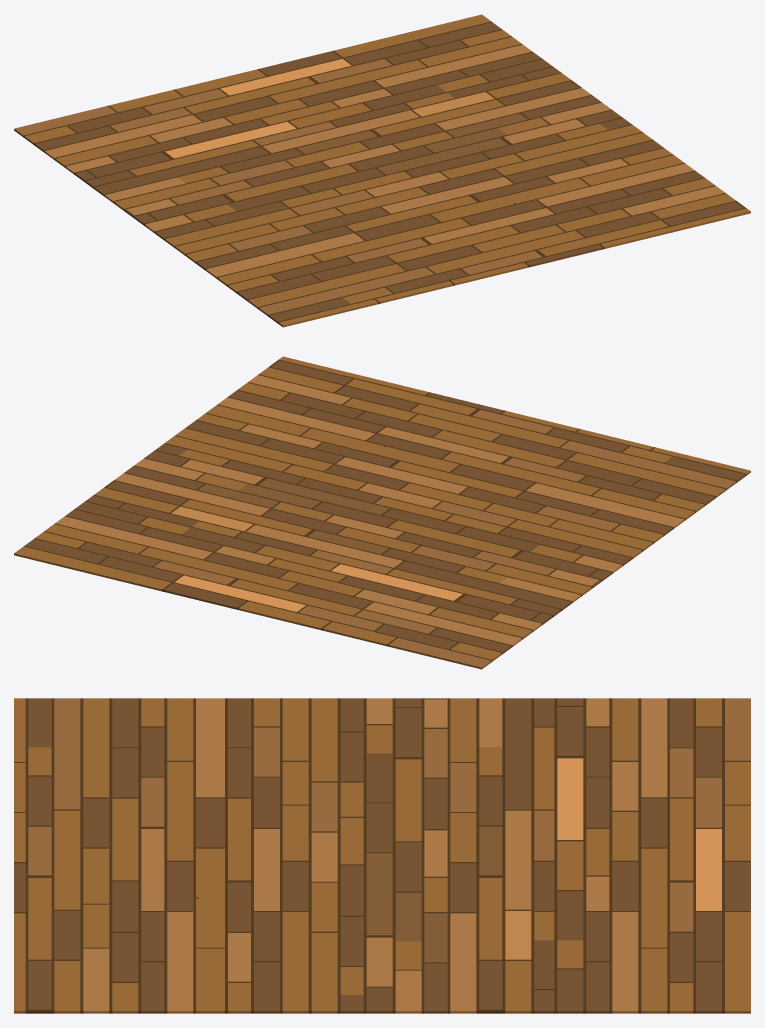
File: Nha-4.obj
3 renders of one model, top to bottom at view 1: azimuth 30°, elevation 25°; view 2: azimuth 150°, elevation 25°; view 3: azimuth 270°, elevation 25°, orthographic. The views are drawn at different scales.
Size of the model in its own units: 25.6 by 0.1 by 25.5.
Materials: 1 (1 with a texture image).
